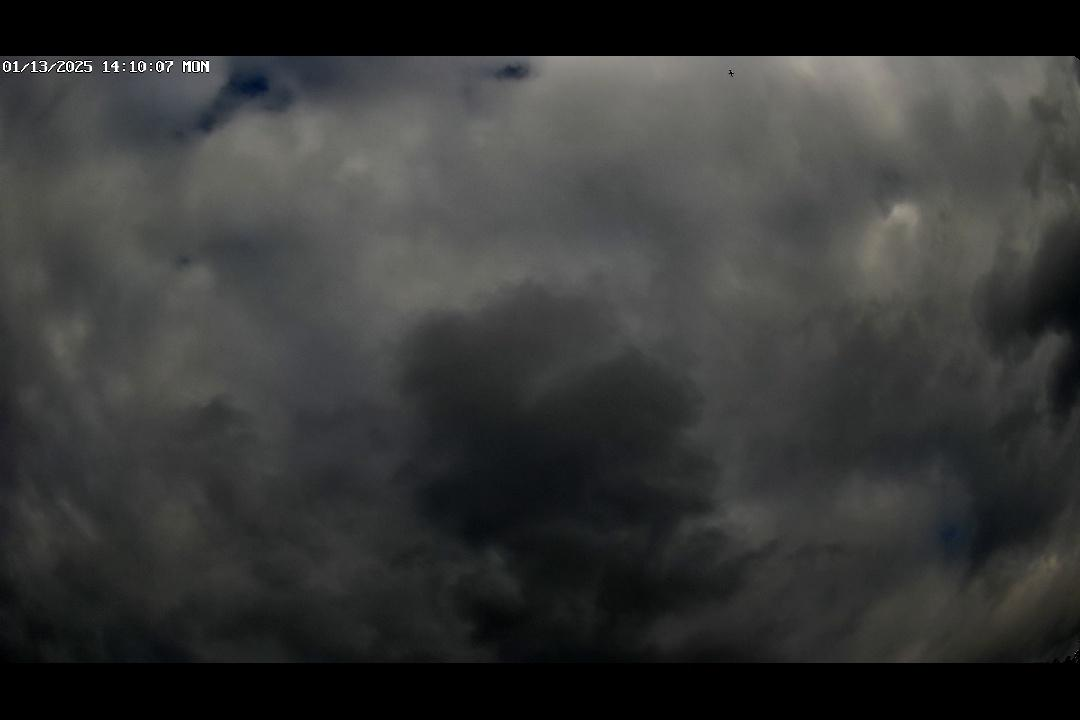Plane: (720, 66, 740, 82)
